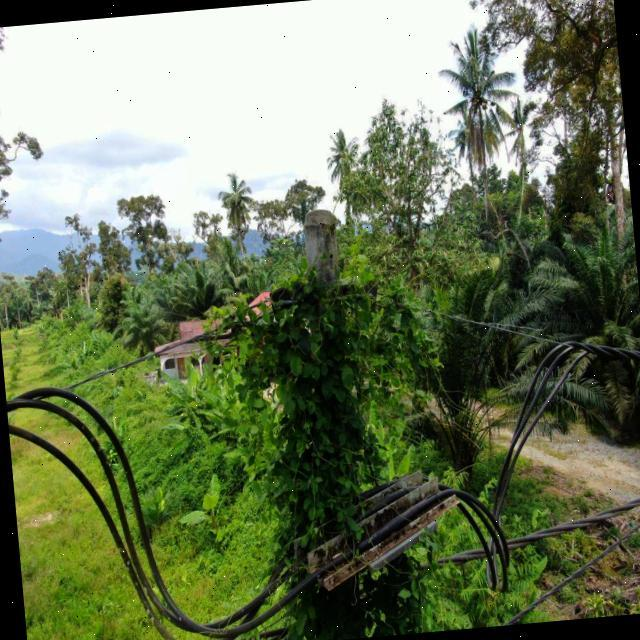critical vegetation: (186, 250, 469, 612)
